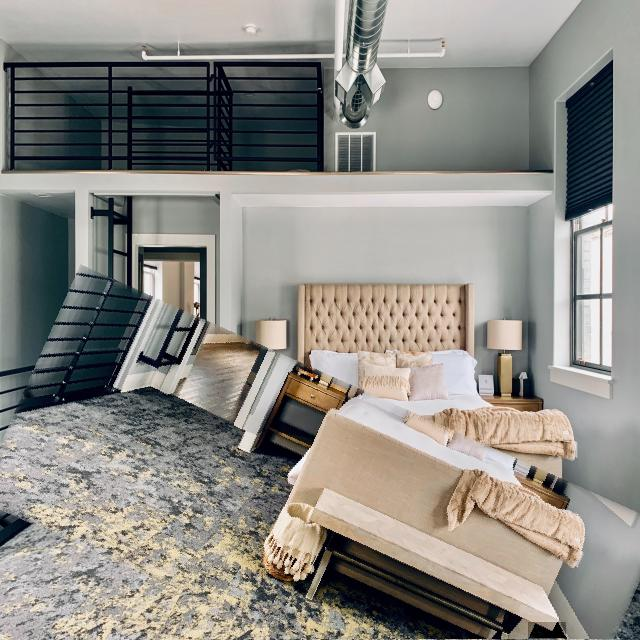floor: (0, 342, 487, 640), (529, 622, 566, 639)
